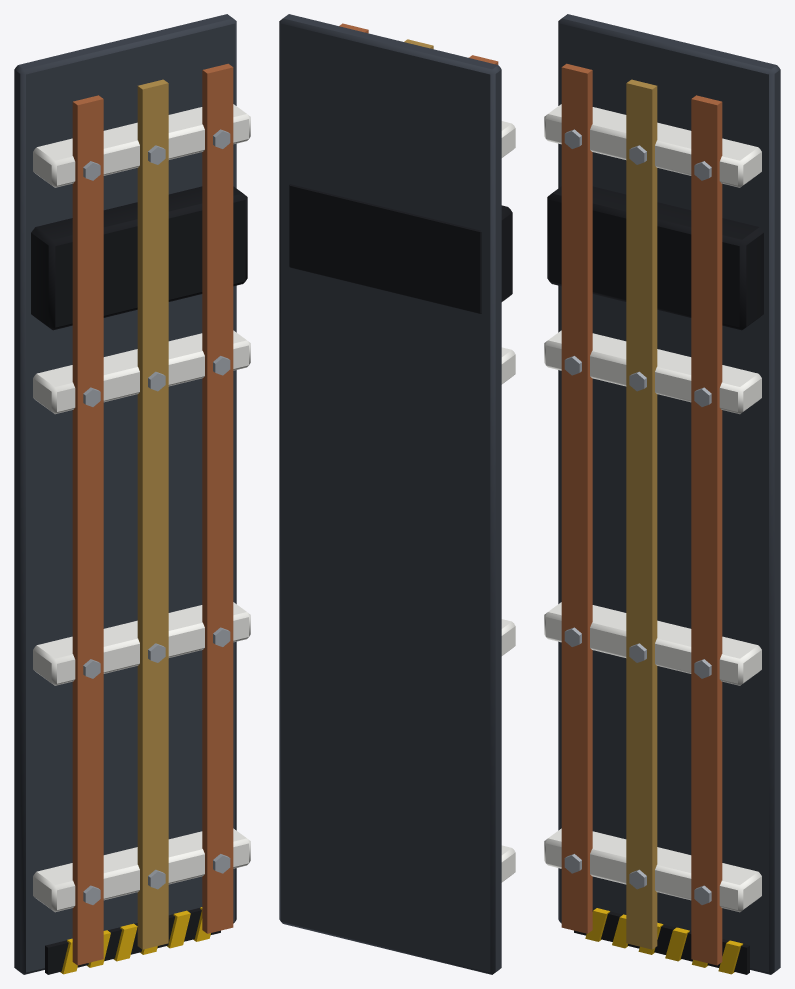
The model's file is junction_bus_bar_riser.glb.
3 views of the same model, side by side, from view 1: azimuth 30°, elevation 25°; view 2: azimuth 150°, elevation 25°; view 3: azimuth 330°, elevation 25° (orthographic).
Visible parts, largest first — view 1: junction_bus_bar_riser; view 2: junction_bus_bar_riser; view 3: junction_bus_bar_riser.
Boxes of the visible parts, x1,y1,x2,y2 form: junction_bus_bar_riser: (14, 14, 250, 974); junction_bus_bar_riser: (279, 14, 515, 974); junction_bus_bar_riser: (544, 14, 780, 974).
Size of the model in its own units: 0.5 by 2 by 0.153.
